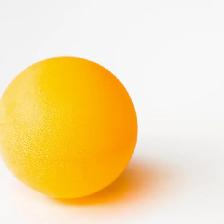YellowBall: (0, 55, 138, 198)
